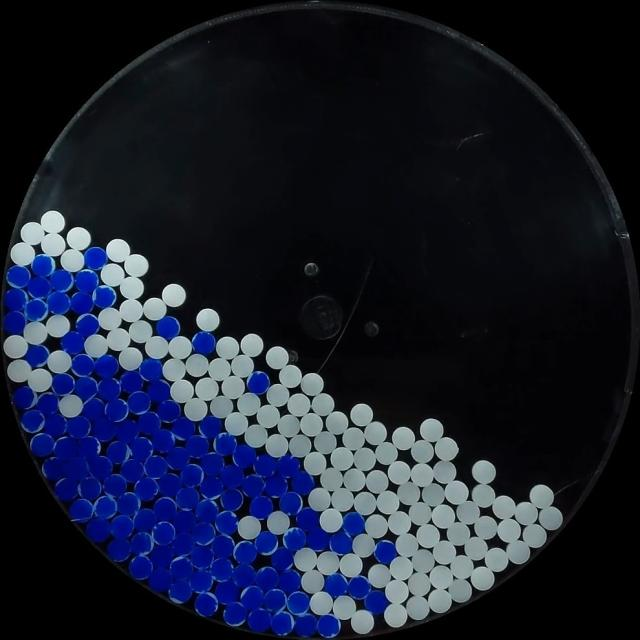pmmma-azul: (61, 454, 89, 480), (185, 432, 211, 458), (134, 476, 159, 502), (20, 409, 46, 434), (152, 496, 177, 522), (149, 542, 174, 568), (40, 456, 66, 481), (85, 518, 112, 542), (30, 432, 55, 457), (247, 607, 272, 632), (179, 463, 204, 488), (220, 464, 245, 489), (55, 476, 80, 501), (128, 436, 153, 461), (169, 416, 194, 441), (74, 269, 100, 293), (156, 399, 182, 423), (282, 526, 306, 552), (93, 494, 117, 520), (152, 520, 176, 546), (194, 498, 218, 524), (106, 537, 132, 561), (73, 375, 98, 399), (46, 291, 71, 315), (4, 287, 28, 312), (103, 473, 127, 498), (31, 254, 56, 278), (67, 415, 92, 439), (128, 555, 153, 579), (296, 507, 321, 531), (61, 330, 86, 354), (120, 458, 145, 482), (223, 601, 247, 626), (168, 578, 193, 602), (232, 562, 256, 587), (92, 285, 117, 309), (88, 455, 113, 479), (110, 514, 134, 539), (3, 310, 27, 335), (172, 509, 196, 534), (264, 473, 288, 498), (168, 556, 192, 581), (149, 567, 173, 592), (239, 585, 264, 609), (91, 418, 116, 442), (324, 572, 347, 598), (291, 470, 314, 496), (232, 444, 256, 468), (137, 410, 161, 434), (84, 246, 108, 270), (157, 316, 181, 340), (151, 428, 175, 452), (50, 268, 74, 292), (82, 397, 106, 421), (270, 611, 294, 635), (200, 452, 224, 476), (286, 591, 310, 615), (75, 314, 99, 338), (127, 390, 151, 414), (279, 491, 303, 515), (144, 455, 168, 479), (116, 492, 140, 516), (348, 575, 372, 599), (249, 495, 273, 519), (94, 355, 118, 379), (214, 510, 238, 534), (78, 477, 102, 501), (70, 353, 94, 377), (240, 474, 264, 498), (271, 546, 295, 570), (342, 512, 366, 536), (364, 590, 388, 614), (192, 331, 216, 355), (26, 343, 50, 367), (27, 274, 51, 298), (133, 508, 157, 532), (211, 534, 235, 558), (277, 569, 301, 593), (194, 592, 218, 616), (276, 454, 300, 478), (192, 521, 216, 545), (190, 545, 214, 569), (305, 526, 329, 550), (316, 614, 340, 638), (210, 556, 234, 580), (6, 265, 31, 288), (115, 419, 140, 442), (255, 566, 278, 591), (42, 414, 67, 437), (252, 455, 277, 478), (56, 435, 78, 461), (147, 379, 171, 402), (139, 358, 163, 381), (120, 370, 144, 393), (255, 530, 278, 554), (13, 386, 36, 410), (105, 398, 128, 422), (106, 440, 129, 464), (199, 414, 222, 438), (69, 498, 93, 521), (51, 372, 75, 395), (215, 580, 238, 604), (189, 568, 212, 592), (374, 540, 397, 564), (24, 298, 48, 321), (262, 588, 286, 611), (247, 370, 270, 394), (234, 540, 257, 564), (176, 486, 200, 509), (213, 432, 236, 456), (70, 292, 94, 315), (77, 436, 101, 459), (157, 472, 180, 496), (36, 393, 59, 416), (220, 488, 243, 511), (200, 475, 223, 498), (330, 531, 352, 555), (293, 614, 317, 636), (173, 532, 195, 556), (130, 532, 152, 555), (98, 378, 120, 401), (167, 446, 187, 469)
